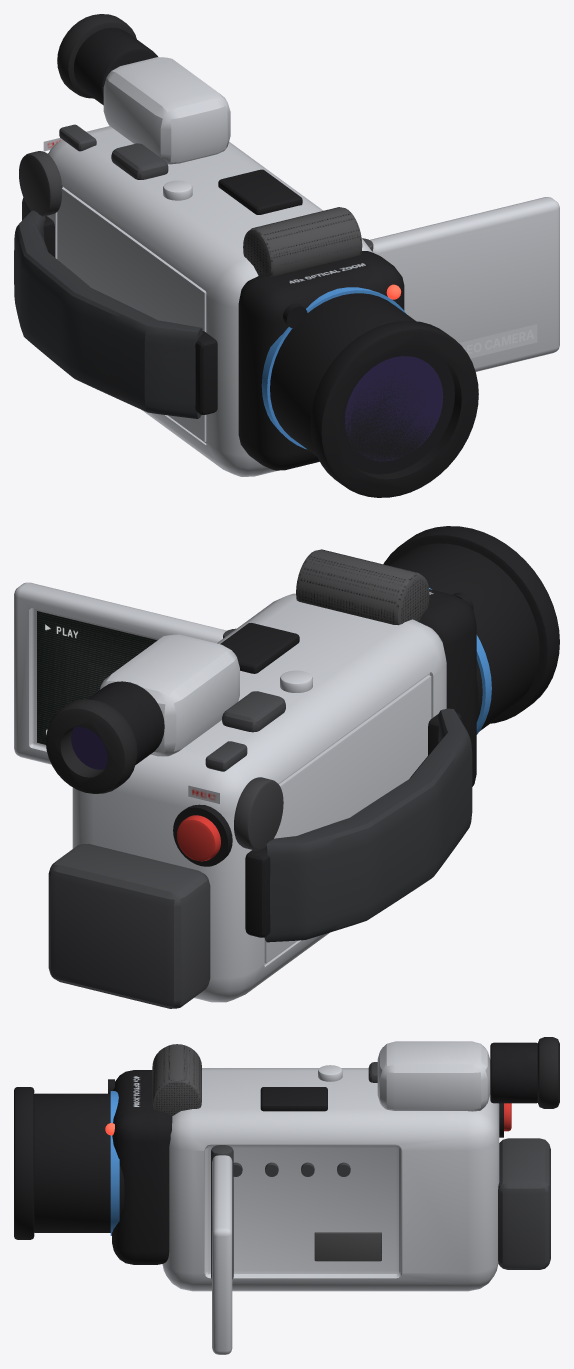
Rendered from Camcorder.glb.
3 renders of one model, top to bottom at view 1: azimuth 30°, elevation 25°; view 2: azimuth 150°, elevation 25°; view 3: azimuth 270°, elevation 25°, orthographic. The views are drawn at different scales.
Parts seen in each view (by area): view 1: Body, Panel, Handle; view 2: Body, Handle, Panel, Screen; view 3: Body, Panel.
Part boxes in pixels (x1,y1,x2,y2): Body: (19,14,478,497); Panel: (362,197,559,371); Handle: (14,210,202,418); Body: (45,526,559,1008); Handle: (264,708,472,942); Panel: (14,582,236,764); Screen: (37,611,157,744); Body: (14,1037,559,1291); Panel: (211,1145,233,1354).
Bounding box in the file's own units: 0.5362 × 0.3383 × 0.7072.
6 materials, 4 textured.
